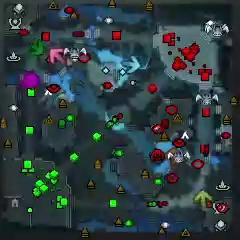p3: (19, 71, 40, 89)
x1: (50, 47, 66, 64)
x2: (195, 189, 212, 210)
x3: (121, 56, 141, 74)
x4: (28, 40, 44, 56)
x5: (164, 147, 180, 165)
